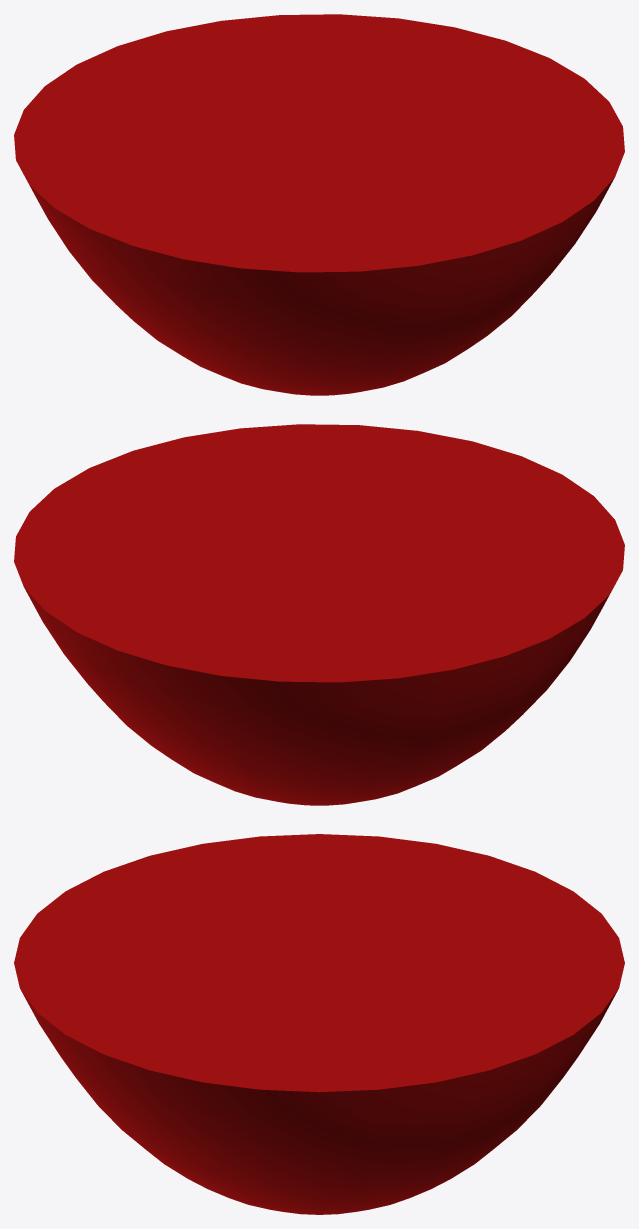
The model's file is EV_BombNose.obj.
3 views of the same model, one above another, from view 1: azimuth 30°, elevation 25°; view 2: azimuth 150°, elevation 25°; view 3: azimuth 270°, elevation 25° (orthographic).
Visible parts, largest first — view 1: EV_BombNose; view 2: EV_BombNose; view 3: EV_BombNose.
Boxes of the visible parts, x1,y1,x2,y2 form: EV_BombNose: [14, 14, 624, 395]; EV_BombNose: [14, 424, 624, 805]; EV_BombNose: [14, 834, 624, 1214].
Size of the model in its own units: 1.26 by 0.52 by 1.26.
